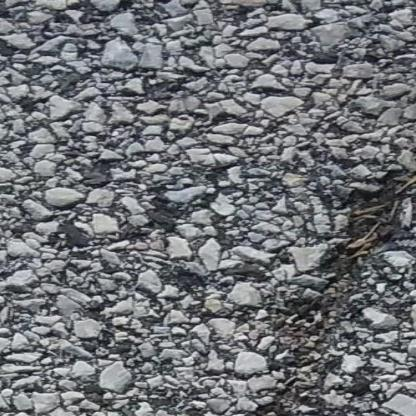Cracks: (232, 158, 416, 416)
